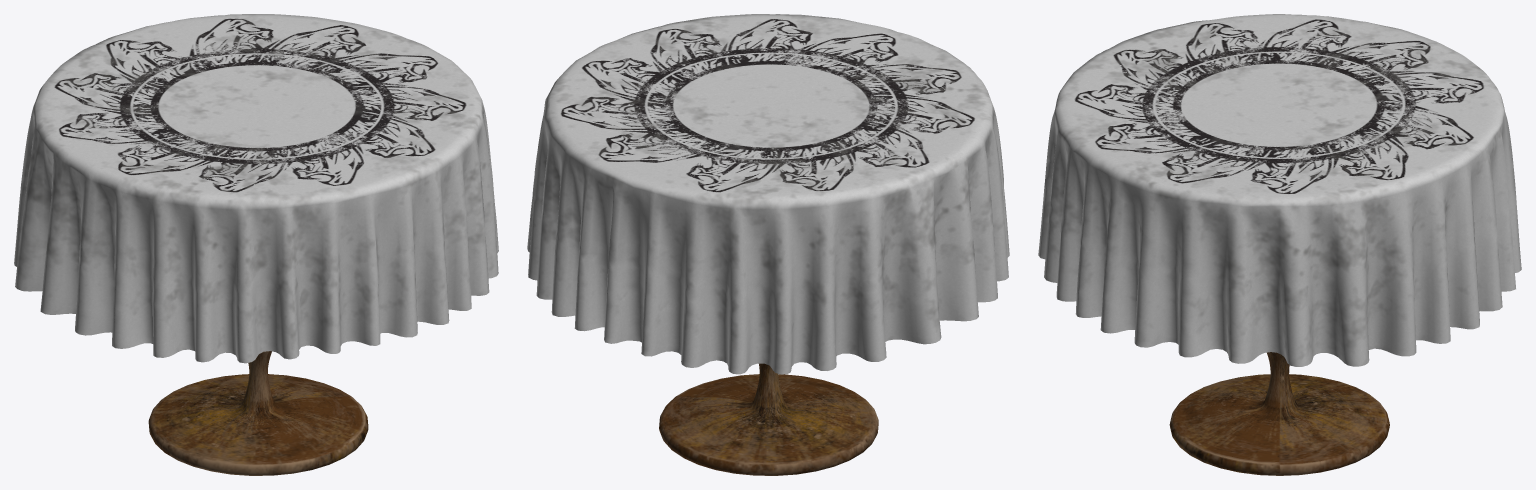
File: decor_table.glb
3 views of the same model, side by side, from view 1: azimuth 30°, elevation 25°; view 2: azimuth 150°, elevation 25°; view 3: azimuth 270°, elevation 25° (orthographic).
Parts seen in each view (by area): view 1: Table Cloth, Side Table; view 2: Table Cloth, Side Table; view 3: Table Cloth, Side Table.
Part boxes in pixels (box(x1,y1,x2,y2)): Table Cloth: box(14, 14, 498, 363); Side Table: box(148, 351, 368, 475); Table Cloth: box(527, 14, 1009, 374); Side Table: box(659, 363, 878, 475); Table Cloth: box(1038, 14, 1521, 366); Side Table: box(1169, 352, 1389, 475).
Size of the model in its own units: 0.7362 by 0.5388 by 0.7249.
Materials: 2 (2 with a texture image).
